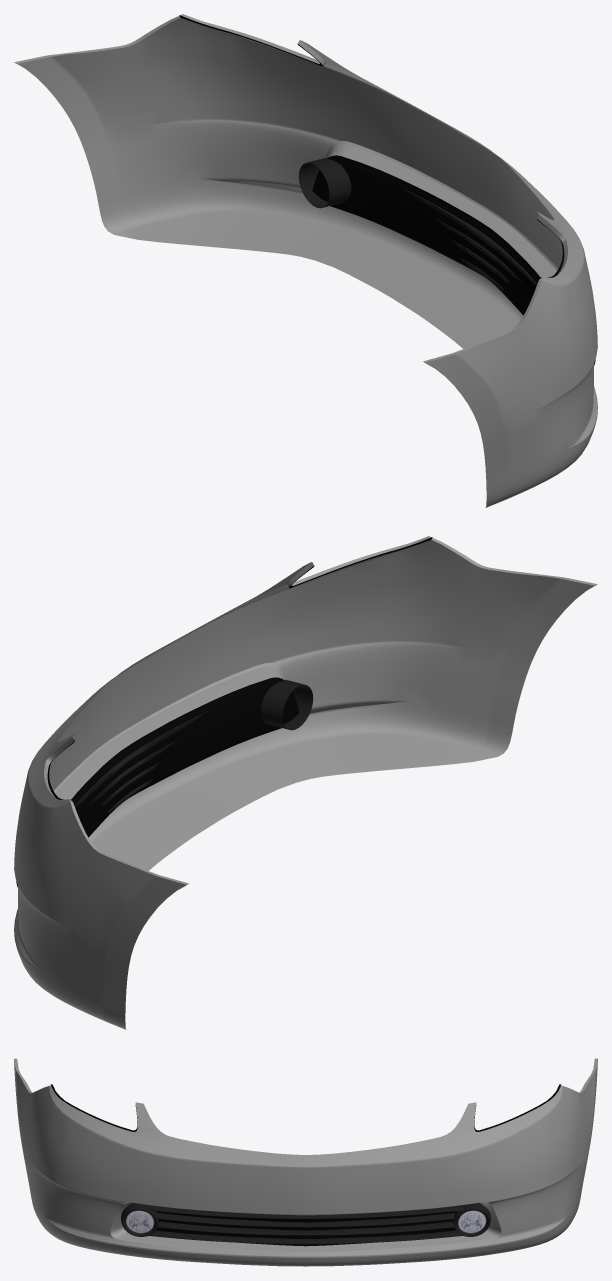
3 renders of one model, top to bottom at view 1: azimuth 30°, elevation 25°; view 2: azimuth 150°, elevation 25°; view 3: azimuth 270°, elevation 25°, orthographic. The views are drawn at different scales.
Visible parts, largest first — view 1: Y191_13_021G_C_Y191_13_021G_C_1_DaS, Y191_13_021G_C_Y191_13_021G_C_3_D, Y191_13_021G_C_Y191_13_021G_C_2_D, Y191_13_021G_C_Y191_13_021G_C_1_DaS_E; view 2: Y191_13_021G_C_Y191_13_021G_C_1_DaS, Y191_13_021G_C_Y191_13_021G_C_3_D, Y191_13_021G_C_Y191_13_021G_C_2_D, Y191_13_021G_C_Y191_13_021G_C_1_DaS_E; view 3: Y191_13_021G_C_Y191_13_021G_C_1_DaS, Y191_13_021G_C_Y191_13_021G_C_2_D, Y191_13_021G_C_Y191_13_021G_C_3_D, Y191_13_021G_C_Y191_13_021G_C_1_DaS_E, Y191_13_021G_C_Y191_13_021G_C_4_N, Y191_13_021G_C_4_DTaSI_Y191_13_021G_C, Y191_13_021G_C_Y191_13_021G_C_5_DTaSI, Y191_13_021G_C_Y191_13_021G_C_1_D.
Boxes of the visible parts, box(x1,y1,x2,y2) form: Y191_13_021G_C_Y191_13_021G_C_1_DaS: box(17, 17, 597, 507); Y191_13_021G_C_Y191_13_021G_C_3_D: box(312, 155, 539, 315); Y191_13_021G_C_Y191_13_021G_C_2_D: box(298, 157, 595, 365); Y191_13_021G_C_Y191_13_021G_C_1_DaS_E: box(14, 14, 597, 448); Y191_13_021G_C_Y191_13_021G_C_1_DaS: box(14, 537, 594, 1029); Y191_13_021G_C_Y191_13_021G_C_3_D: box(72, 677, 299, 837); Y191_13_021G_C_Y191_13_021G_C_2_D: box(16, 679, 313, 887); Y191_13_021G_C_Y191_13_021G_C_1_DaS_E: box(14, 536, 597, 970); Y191_13_021G_C_Y191_13_021G_C_1_DaS: box(14, 1060, 597, 1266); Y191_13_021G_C_Y191_13_021G_C_2_D: box(121, 1202, 490, 1244); Y191_13_021G_C_Y191_13_021G_C_3_D: box(156, 1211, 455, 1246); Y191_13_021G_C_Y191_13_021G_C_1_DaS_E: box(14, 1058, 597, 1257); Y191_13_021G_C_Y191_13_021G_C_4_N: box(125, 1210, 486, 1232); Y191_13_021G_C_4_DTaSI_Y191_13_021G_C: box(125, 1211, 153, 1233); Y191_13_021G_C_Y191_13_021G_C_5_DTaSI: box(458, 1211, 486, 1233); Y191_13_021G_C_Y191_13_021G_C_1_D: box(50, 1084, 561, 1131).
Size of the model in its own units: 69.05 by 49.21 by 170.
